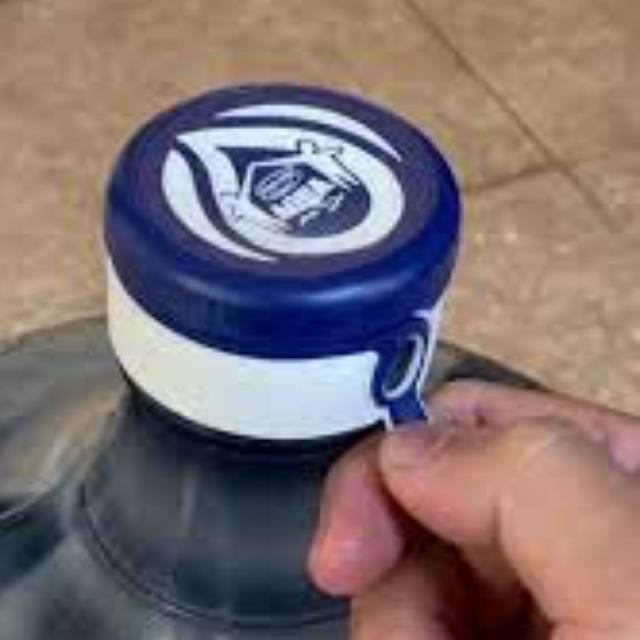TutupGalon: (67, 68, 499, 455)
